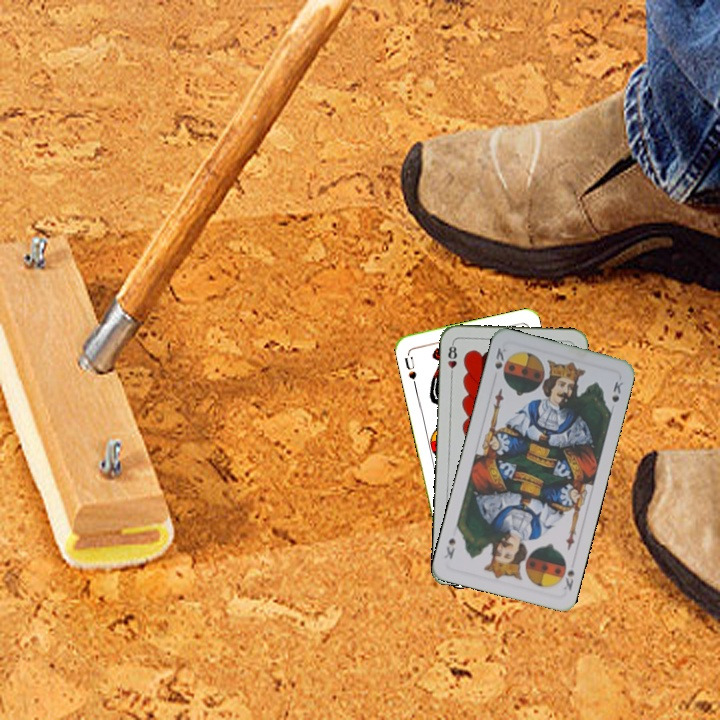H8: (444, 339, 459, 380)
SK: (490, 344, 509, 372), (559, 565, 577, 593)
SU: (400, 349, 419, 389)
